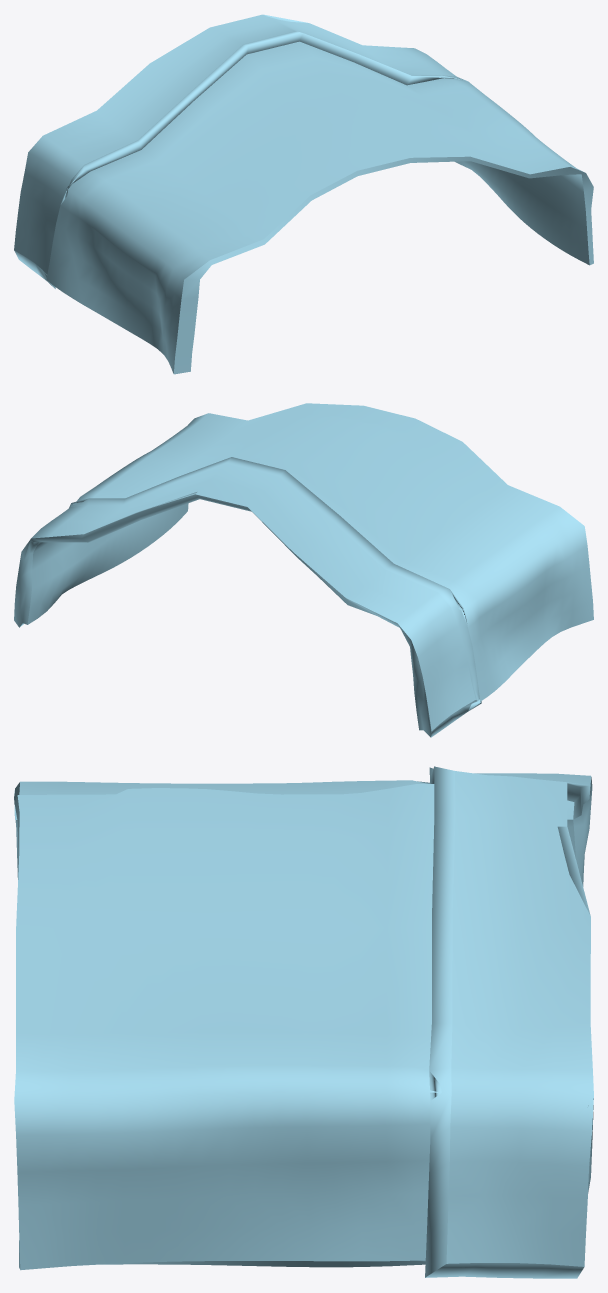
File: blanket.fbx
3 views of the same model, one above another, from view 1: azimuth 30°, elevation 25°; view 2: azimuth 150°, elevation 25°; view 3: azimuth 270°, elevation 25° (orthographic). The views are drawn at different scales.
Parts seen in each view (by area): view 1: polySurface8; view 2: polySurface8; view 3: polySurface8.
Boxes of the visible parts, box(x1,y1,x2,y2) form: polySurface8: box(14, 14, 593, 374); polySurface8: box(14, 403, 593, 737); polySurface8: box(14, 766, 593, 1278).
Size of the model in its own units: 44.02 by 18.95 by 29.46.
